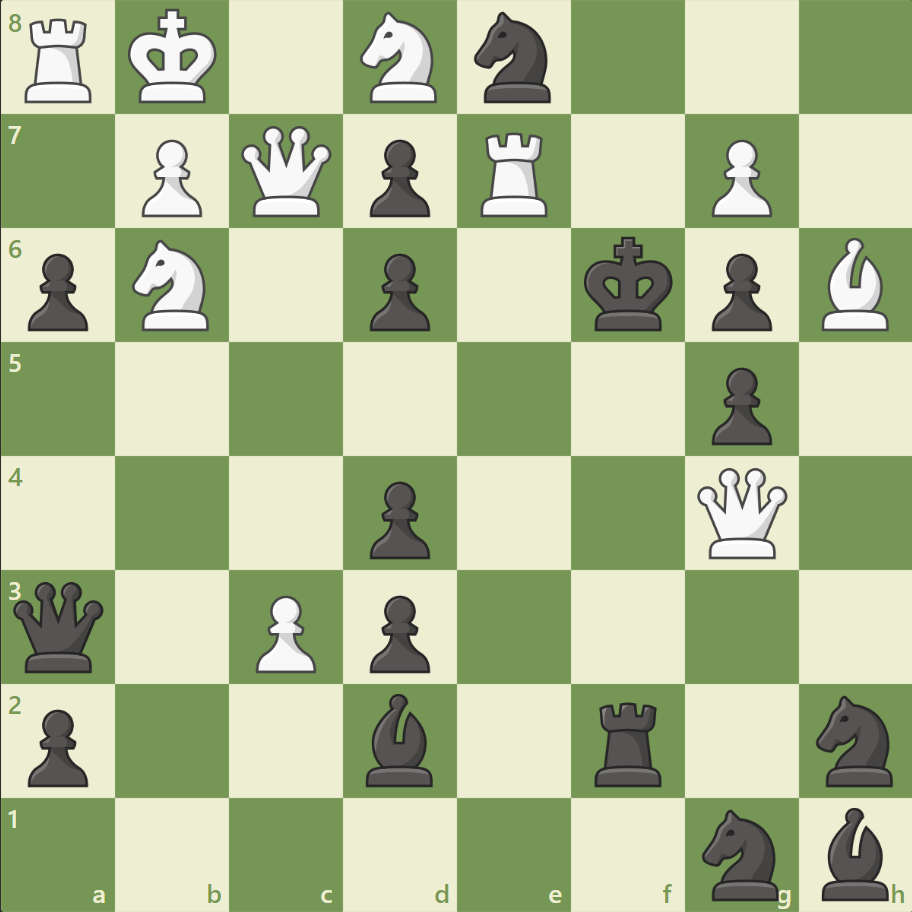B: (812, 233, 896, 336)
K: (124, 4, 224, 112)
N: (351, 7, 449, 110), (124, 234, 222, 337)
P: (133, 132, 208, 223), (701, 132, 776, 223), (247, 586, 322, 677)
Q: (237, 122, 336, 222), (691, 463, 790, 562)
R: (19, 12, 102, 109), (473, 125, 556, 222)
b: (358, 687, 442, 790), (812, 801, 896, 904)
k: (579, 231, 679, 339)
n: (465, 7, 562, 110), (806, 688, 903, 791), (692, 802, 789, 904)
p: (20, 246, 95, 337), (701, 246, 776, 337), (701, 359, 776, 450), (20, 700, 95, 791), (361, 132, 435, 223), (361, 246, 435, 337), (361, 473, 435, 564), (361, 586, 435, 677)
q: (10, 576, 109, 676)
r: (587, 693, 670, 790)
